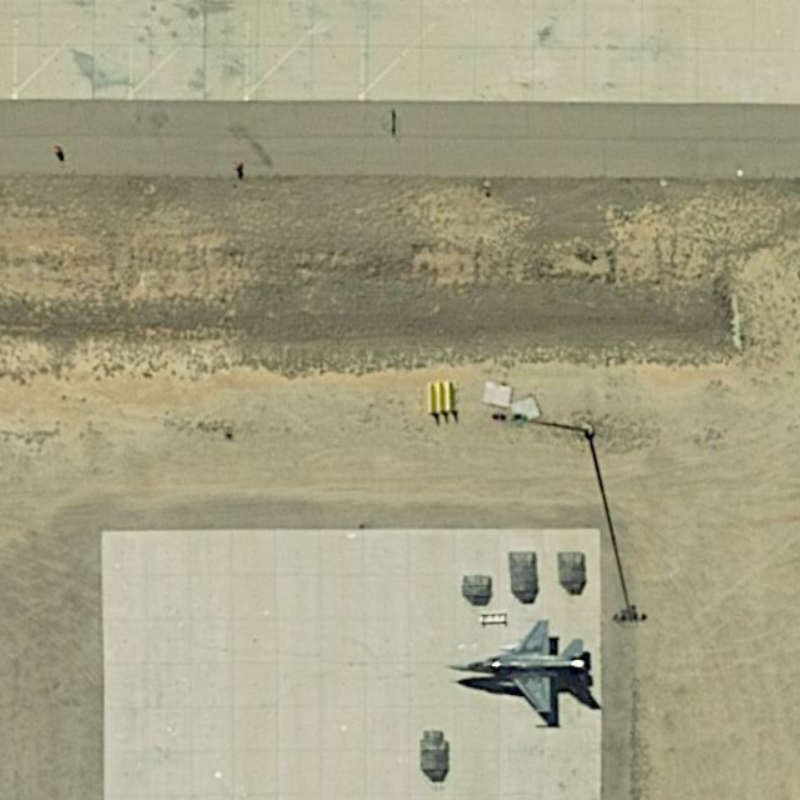A5: (448, 611, 605, 727)
